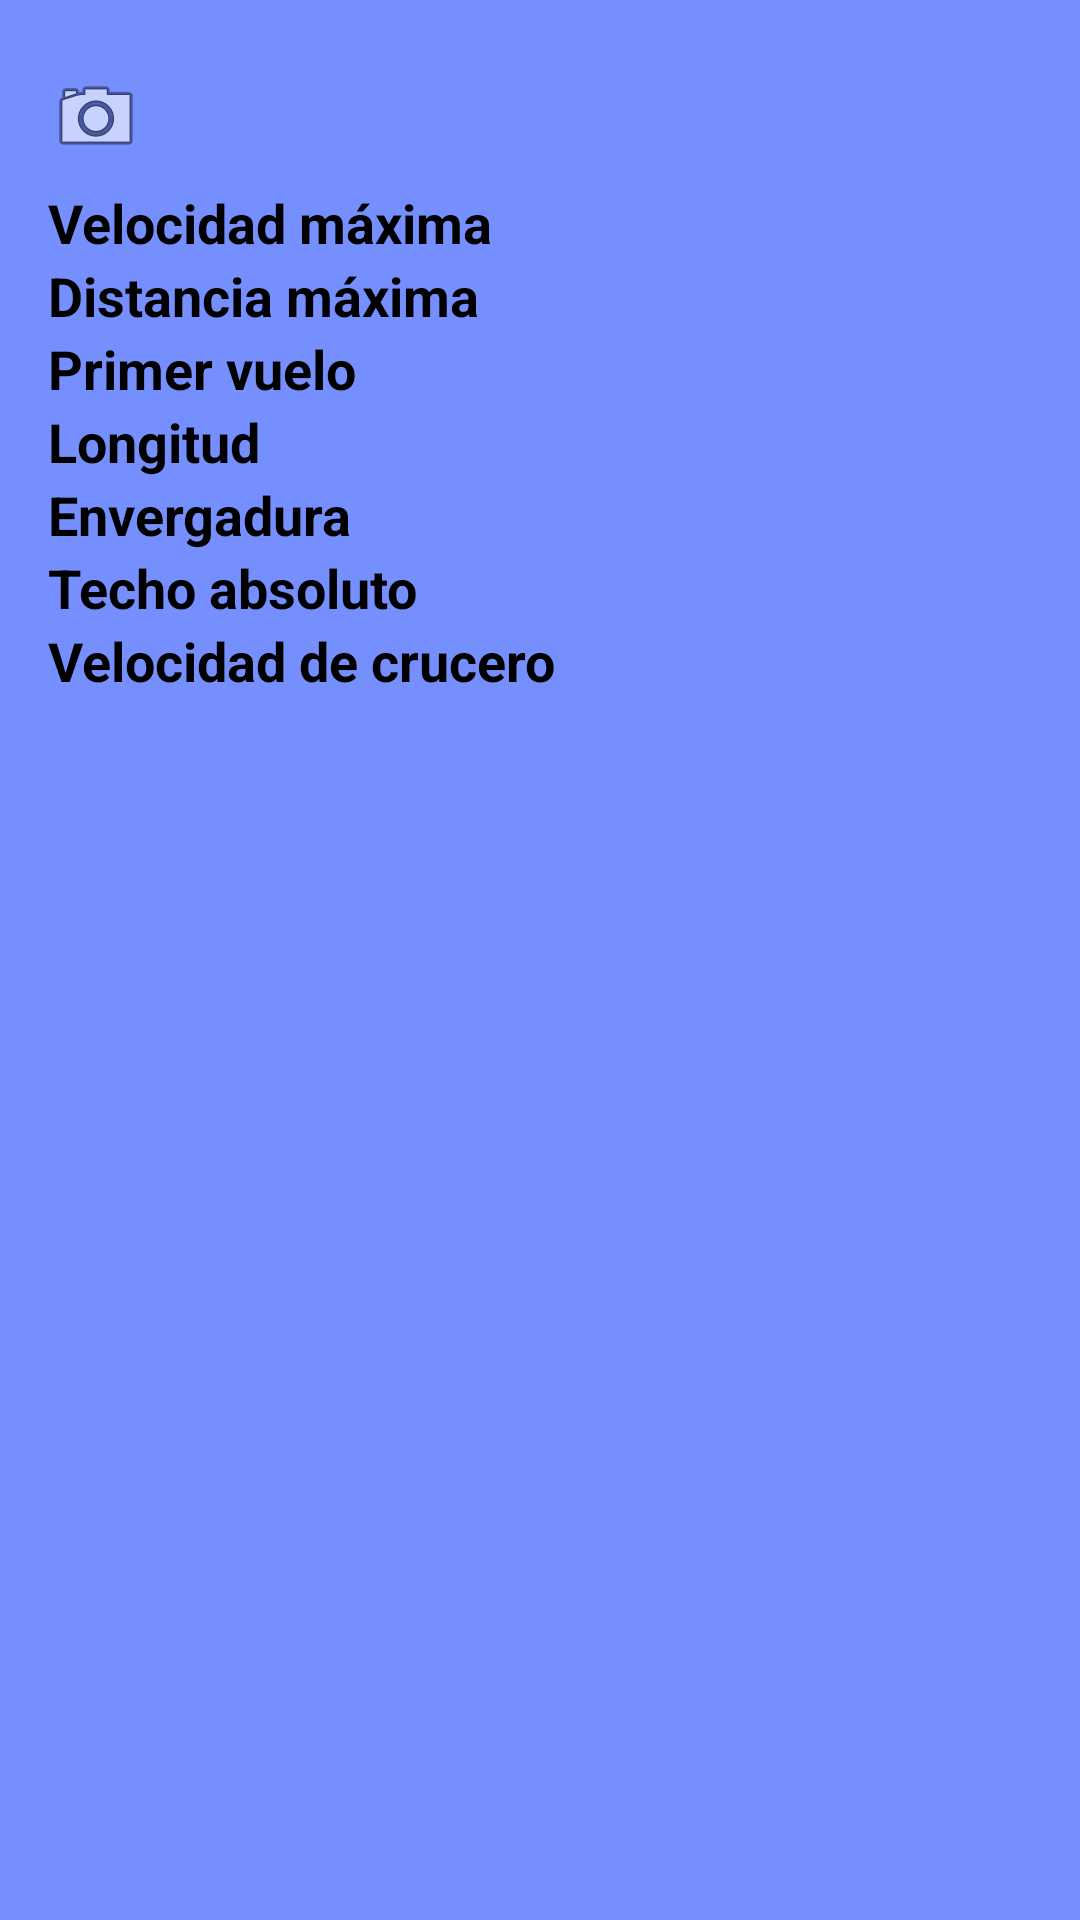

Where icons sit on this 1080w x 1920h app screen, as (x1, y1, x2, y2):
camera: (59, 86, 133, 145)
